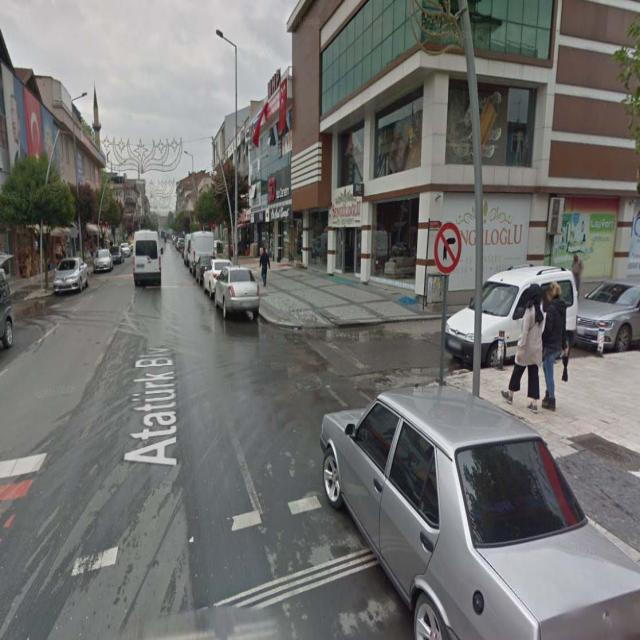sagadonulmez: (436, 223, 460, 272)
